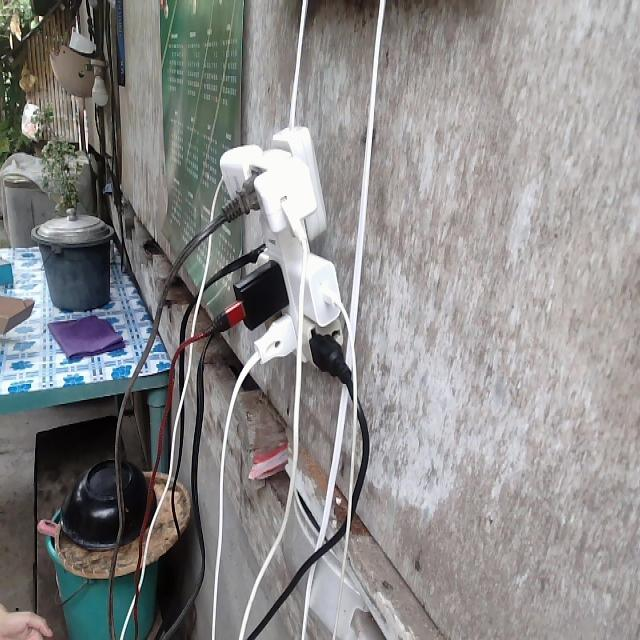-: (214, 119, 348, 381)
